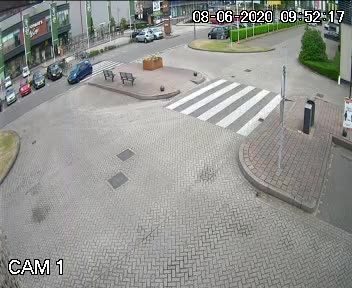car: (66, 58, 97, 88), (197, 24, 230, 41), (131, 24, 153, 44), (30, 70, 50, 91), (316, 20, 339, 37), (16, 80, 34, 94), (147, 27, 167, 39), (15, 64, 31, 78), (6, 88, 19, 105), (48, 62, 61, 78), (3, 72, 10, 88)
